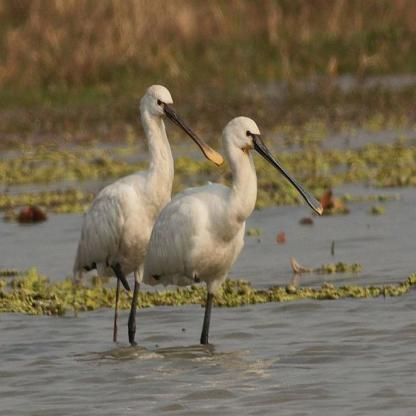Burung: (144, 116, 325, 344), (71, 85, 223, 351)
